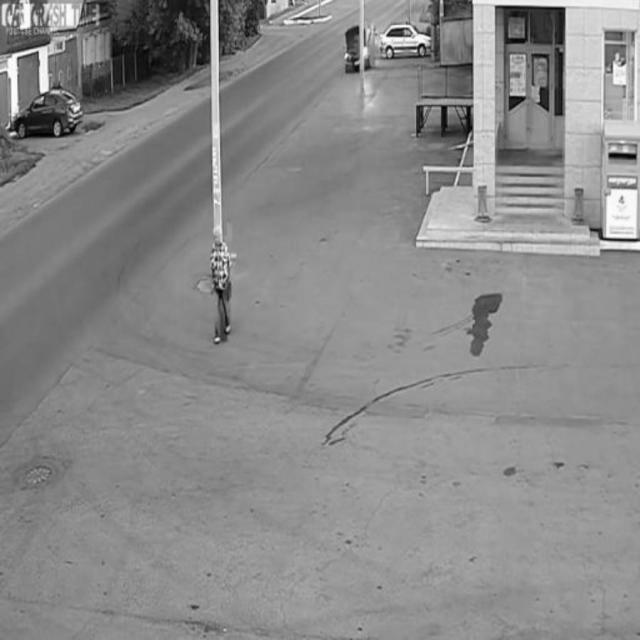person: (209, 227, 239, 345)
vehicle: (15, 83, 86, 139), (376, 18, 434, 60), (341, 27, 371, 73)
